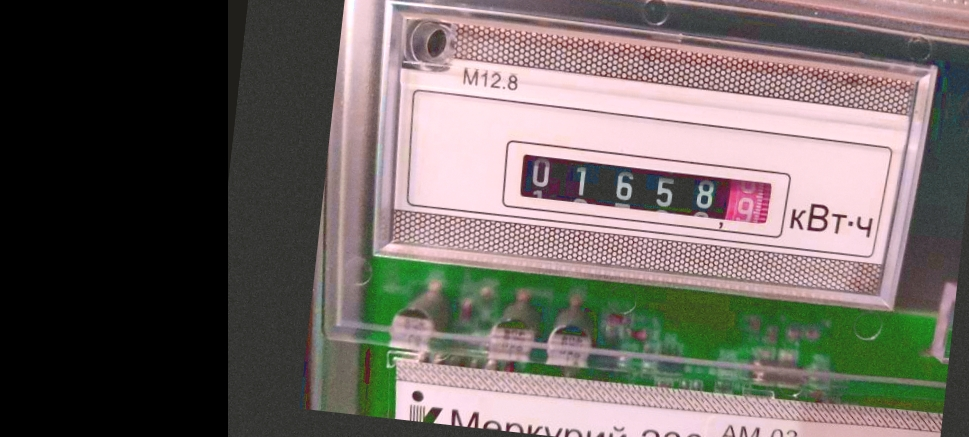0: (529, 155, 553, 187)
1: (572, 163, 592, 197)
5: (653, 174, 677, 207)
6: (613, 167, 637, 201)
8: (694, 175, 717, 209)
9: (733, 194, 757, 224)
screen: (490, 129, 798, 245)
